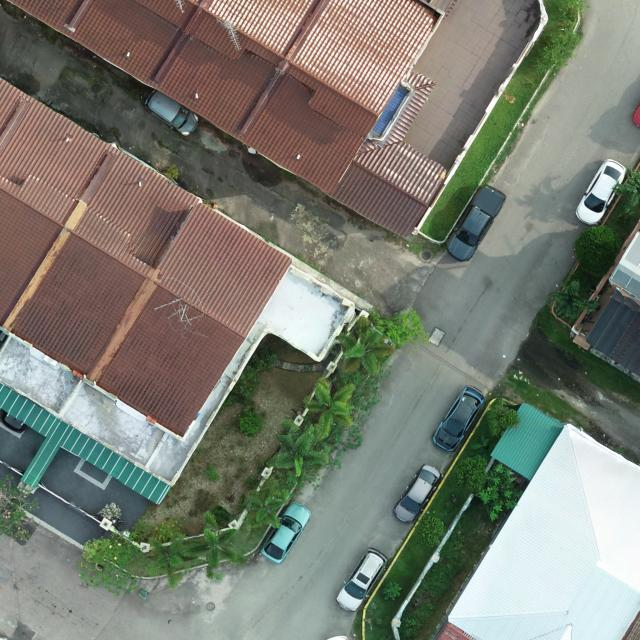banana_tree2: (470, 434, 490, 450)
tree: (76, 528, 142, 596), (335, 315, 394, 379), (180, 511, 246, 567), (303, 378, 357, 441), (275, 419, 331, 478), (146, 530, 202, 586), (0, 473, 40, 543), (478, 462, 524, 522), (368, 308, 432, 350), (573, 226, 623, 278), (533, 19, 582, 72), (247, 476, 290, 529), (542, 280, 598, 320), (452, 454, 490, 496), (611, 165, 640, 214), (486, 398, 520, 436), (416, 516, 445, 548), (380, 581, 402, 601)
